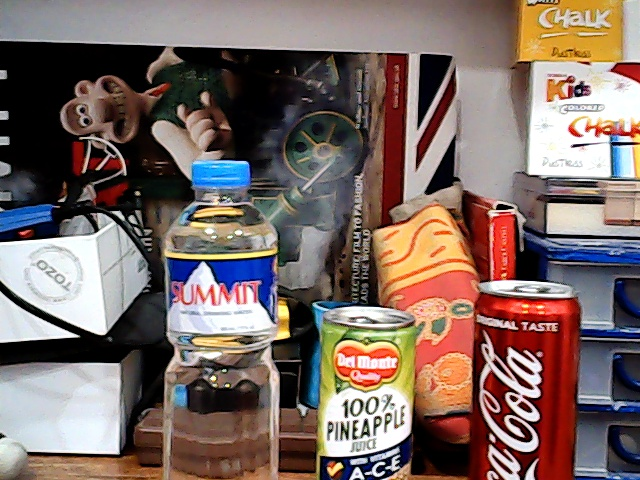Cola: (464, 274, 581, 480)
Pine Juice: (312, 298, 420, 480)
Summit Water: (155, 157, 286, 480)
